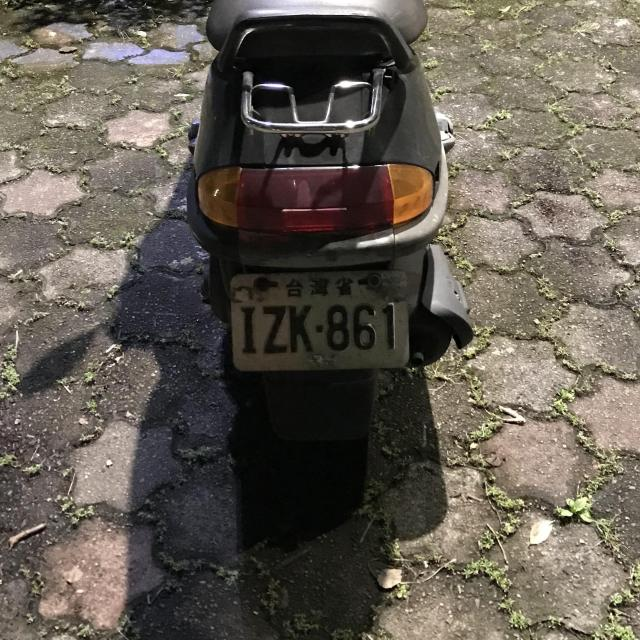W: (222, 257, 412, 382)
